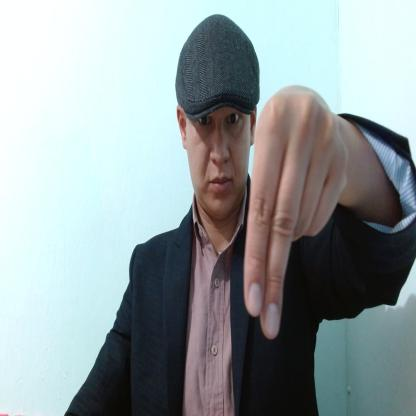N: (242, 84, 350, 343)
